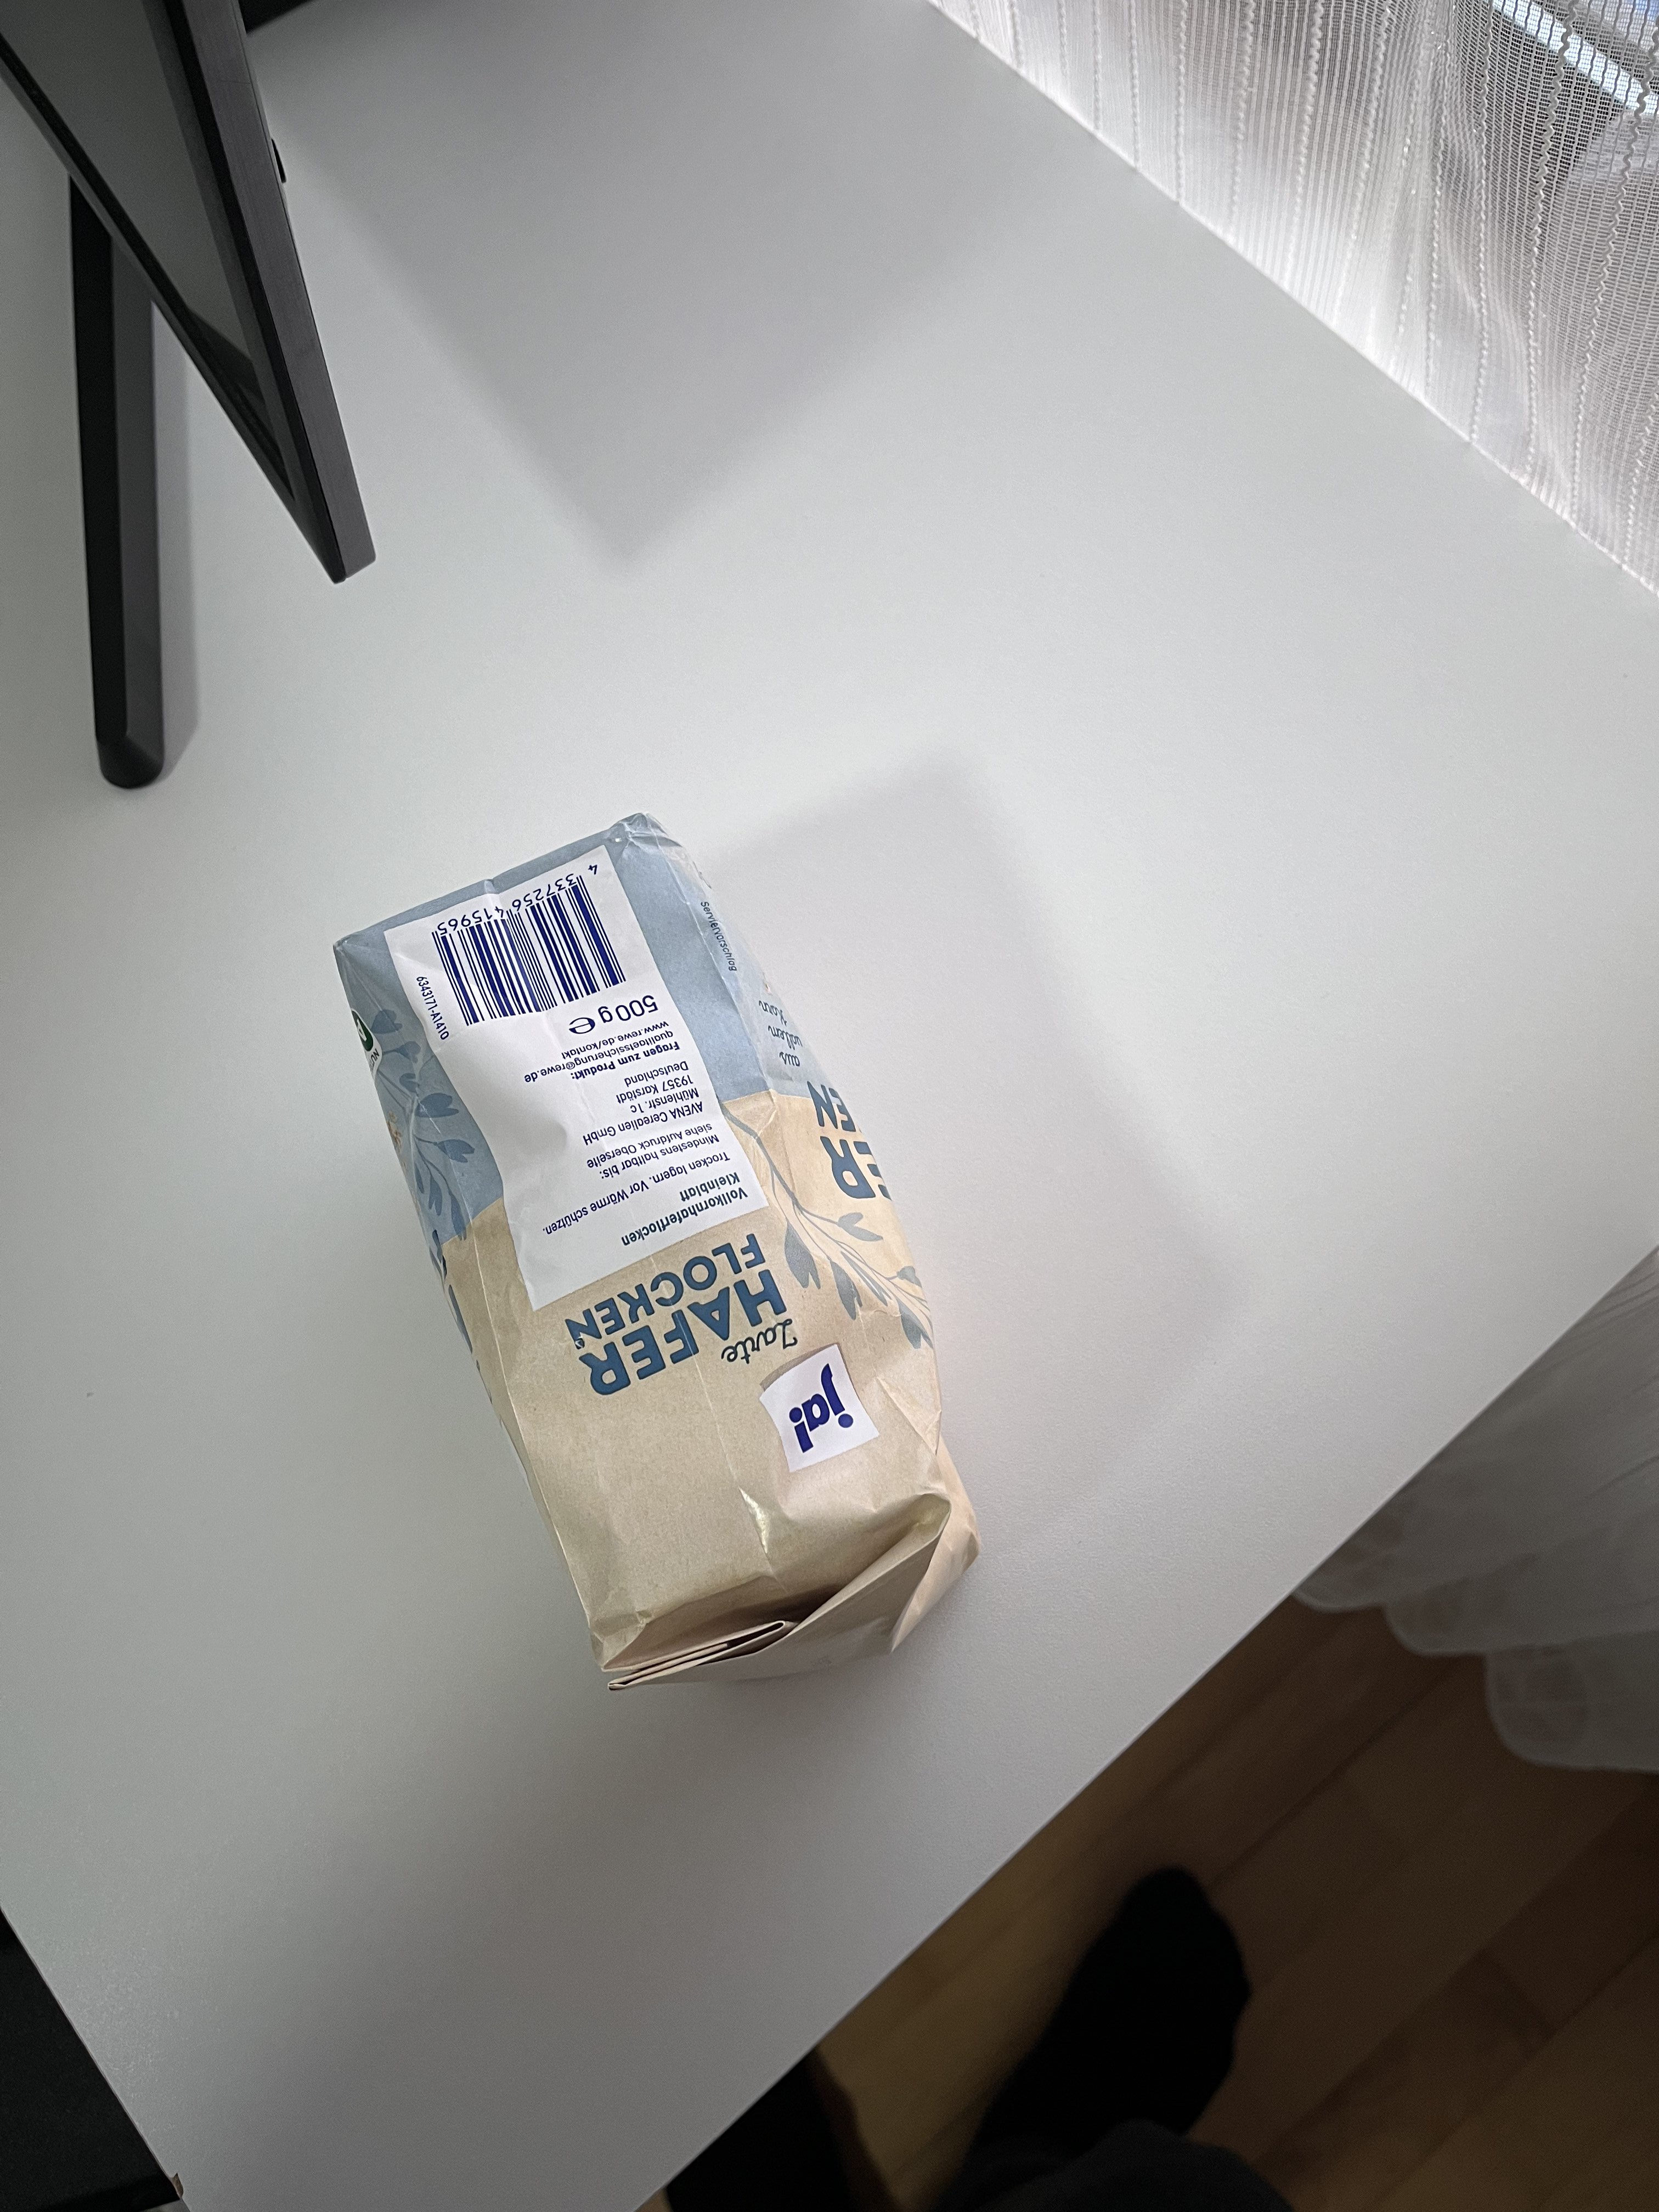haferflocken_ja: (331, 815, 976, 1695)
